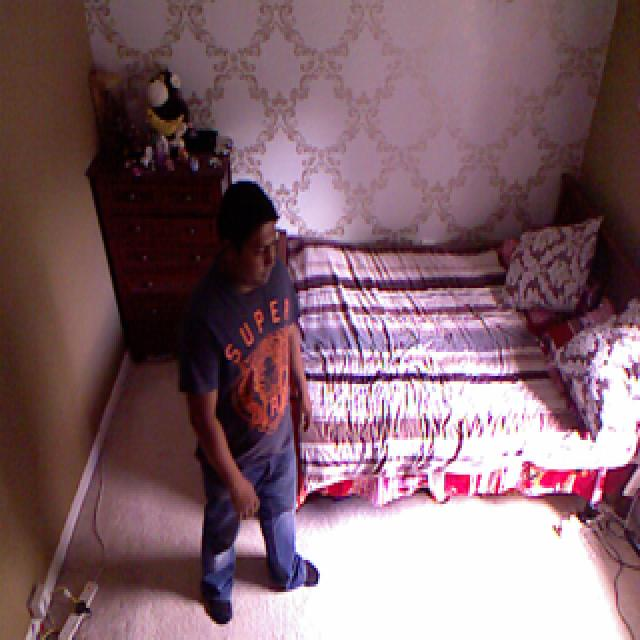standing: (170, 178, 306, 620)
